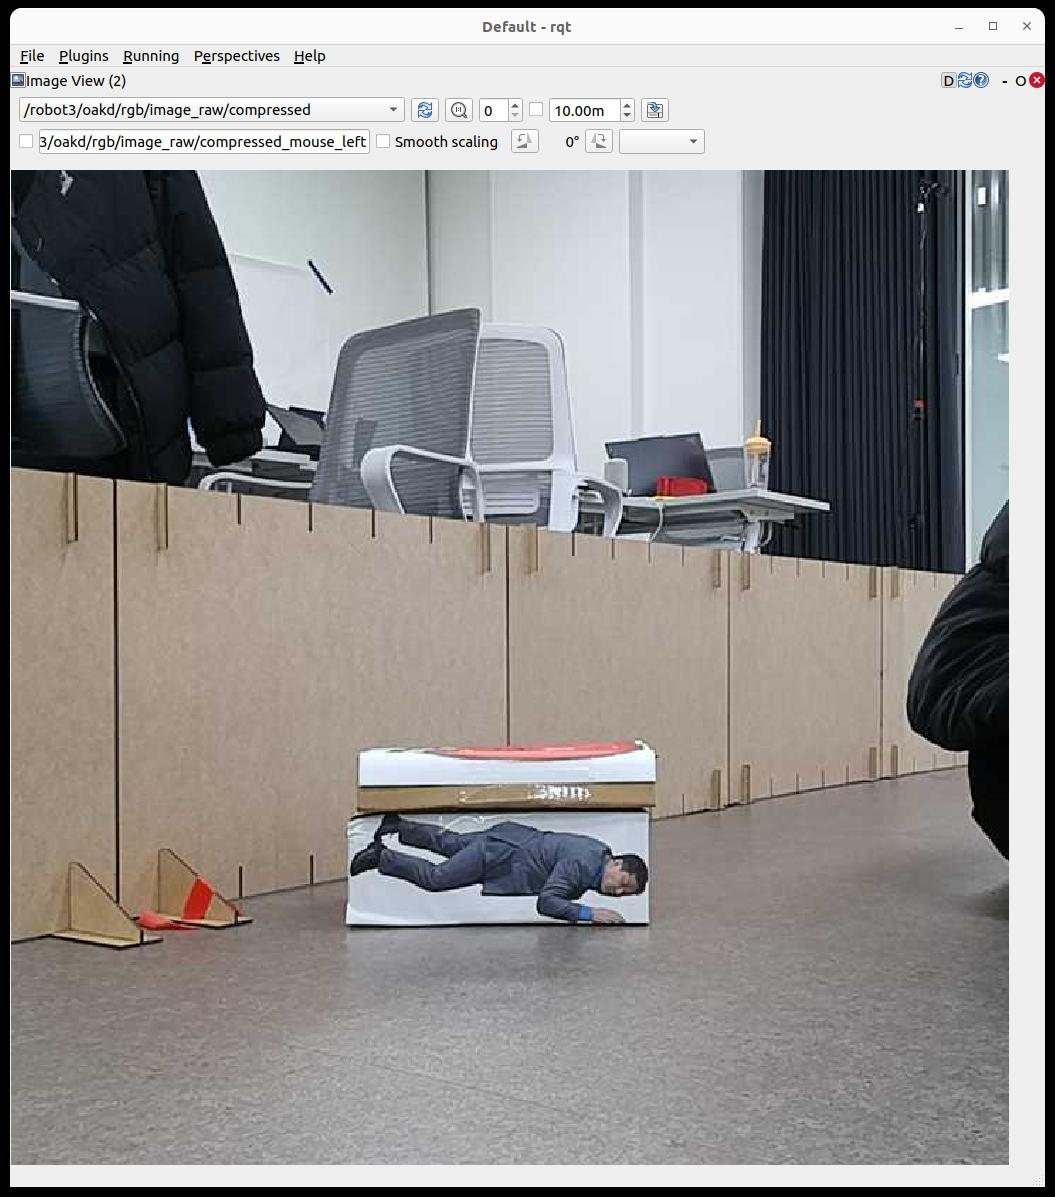Patient: (355, 816, 647, 922)
